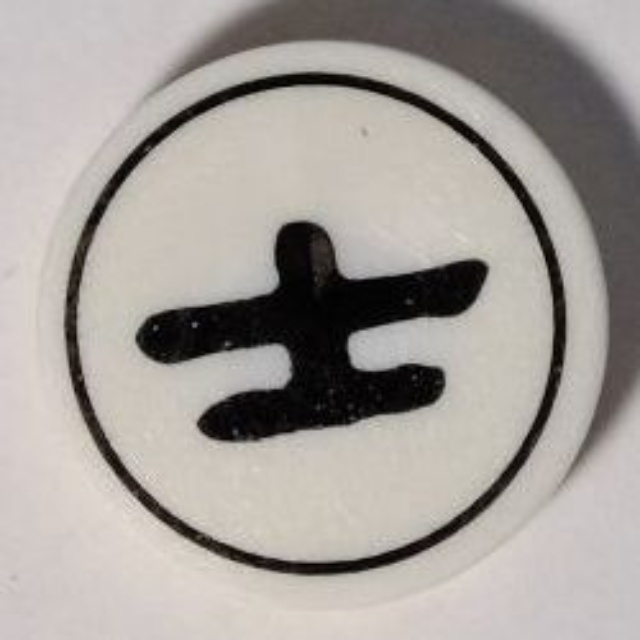black_si: (30, 37, 615, 608)
